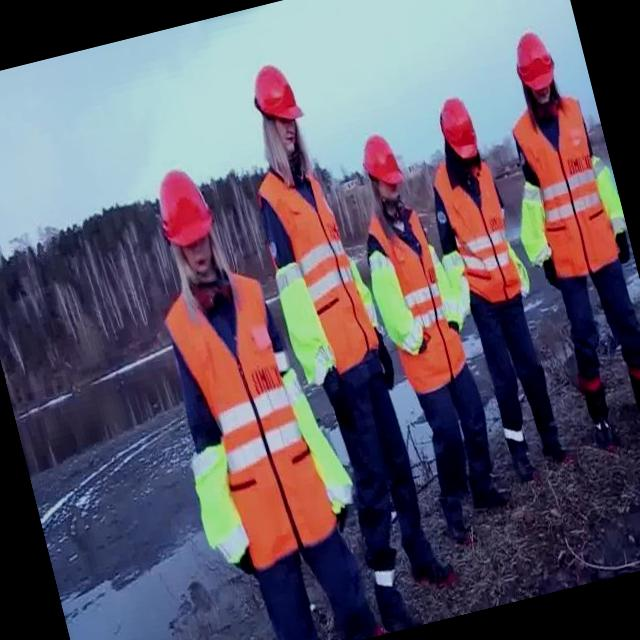boots: (422, 428, 481, 559), (450, 413, 512, 522), (518, 364, 578, 476), (486, 376, 538, 502), (363, 536, 420, 634), (398, 526, 449, 600), (578, 371, 624, 448), (619, 358, 640, 445)
helmet: (148, 164, 214, 243), (245, 59, 302, 129), (507, 29, 559, 97), (434, 95, 482, 166), (354, 129, 404, 192)
vest: (155, 259, 327, 575), (252, 154, 384, 386), (505, 93, 619, 282), (364, 203, 473, 394), (428, 148, 524, 312), (279, 354, 354, 522), (178, 439, 252, 578), (269, 255, 331, 391), (364, 249, 421, 358), (506, 168, 554, 274), (584, 140, 626, 231), (424, 235, 457, 327), (347, 253, 382, 332), (440, 246, 476, 317), (508, 244, 533, 300)
